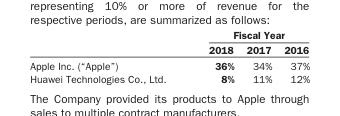table: (29, 28, 309, 84)
table column: (29, 28, 186, 84), (186, 28, 239, 84), (239, 28, 277, 84), (277, 28, 309, 84)
table column header: (29, 28, 309, 57)
table row: (29, 41, 309, 57), (29, 57, 309, 72), (29, 28, 309, 41), (29, 72, 309, 84)
table spanning cell: (186, 28, 309, 41)
